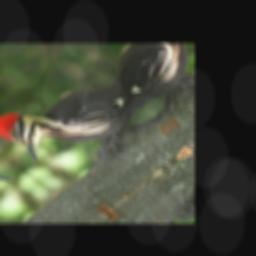Woodpecker: (0, 57, 160, 190)
